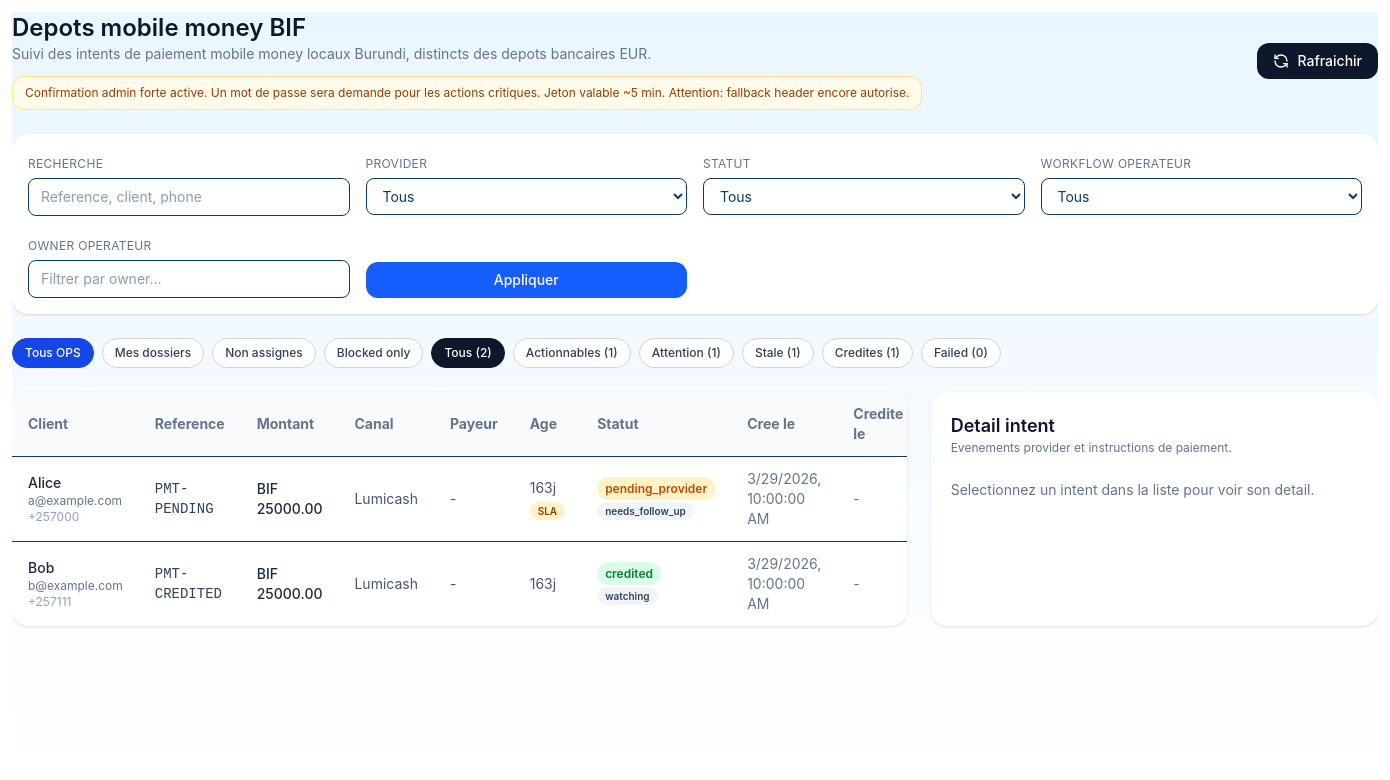
Test: AdminPaymentIntentsPage › filters intents by quick queue view
Expected: the text "PMT-PENDING" is shown, [139,456,241,542]
Expected: the text "PMT-CREDITED" is shown, [139,542,241,626]
Click the button "Actionnables (1)". click: (572, 353)
box: [513,338,631,368]
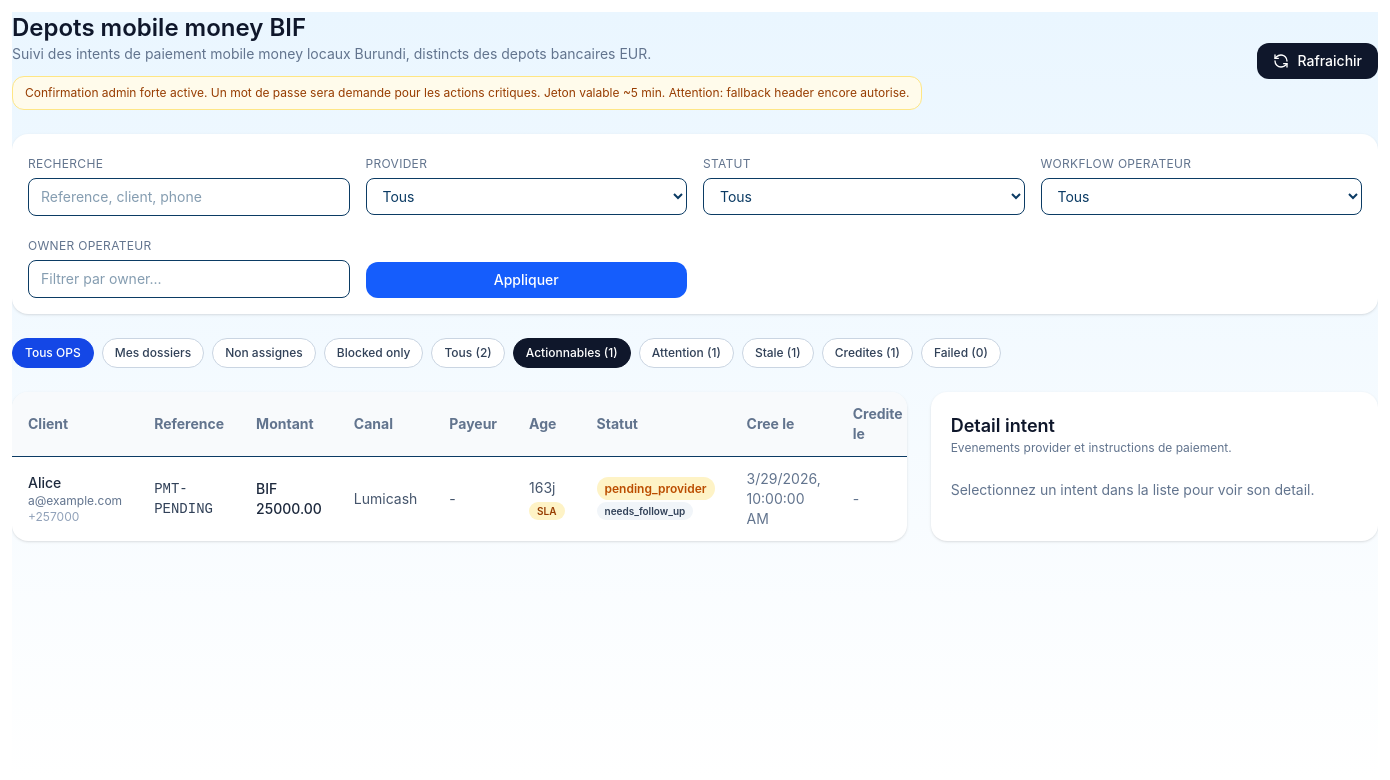
Expected: the text "PMT-PENDING" is shown, [138,456,240,541]
Expected: the text "PMT-CREDITED" is gone
